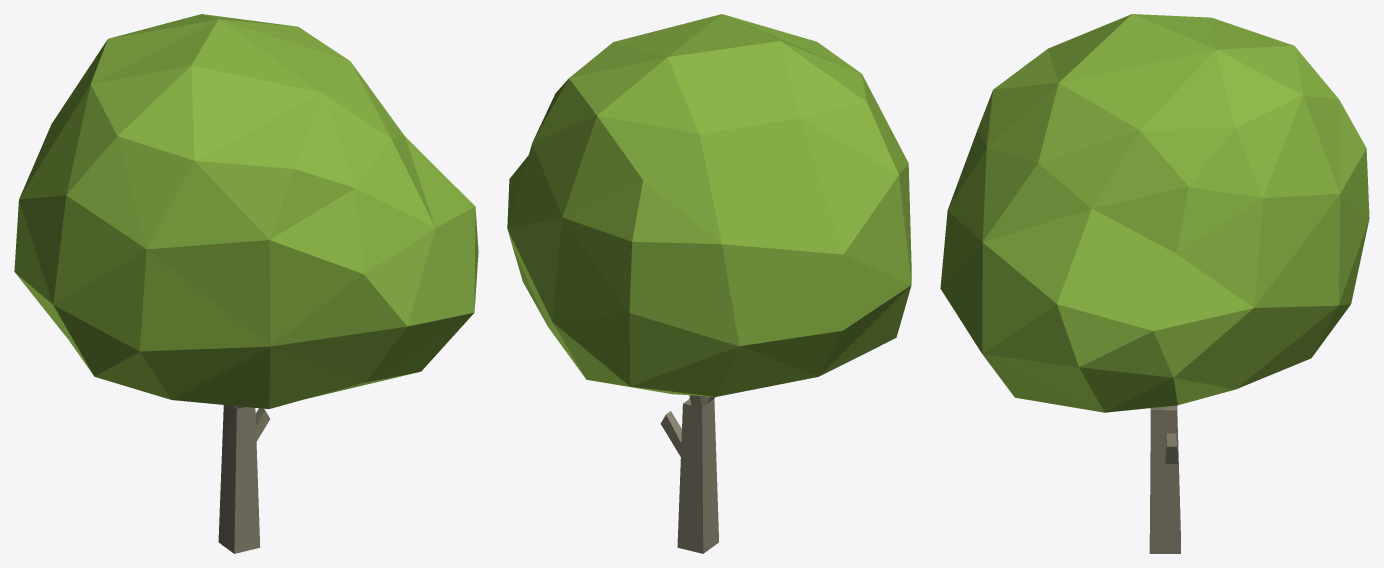
Rendered from tree2.fbx.
3 views of the same model, side by side, from view 1: azimuth 30°, elevation 25°; view 2: azimuth 150°, elevation 25°; view 3: azimuth 270°, elevation 25° (orthographic).
Parts seen in each view (by area): view 1: Group8, pCube5; view 2: Group8, pCube5; view 3: Group8, pCube5.
Boxes of the visible parts, x1,y1,x2,y2 form: Group8: (14,14,478,408); pCube5: (218,405,269,553); Group8: (507,14,911,396); pCube5: (660,395,718,553); Group8: (940,14,1369,412); pCube5: (1149,405,1180,553).
Size of the model in its own units: 35.49 by 43.55 by 33.71.
